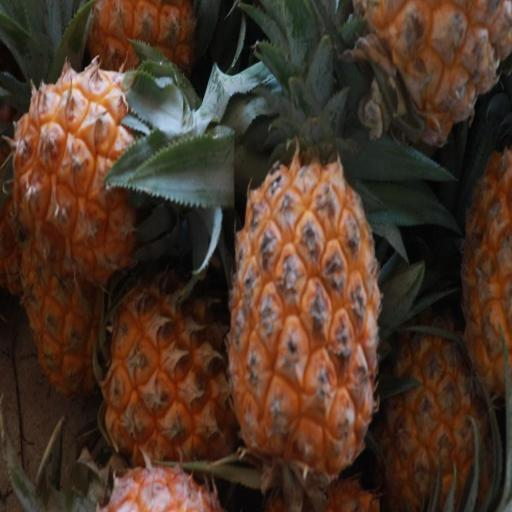Pineapple - v8 v1: (224, 142, 386, 494), (8, 54, 219, 298), (98, 265, 262, 473), (362, 277, 504, 511), (360, 2, 512, 154)
